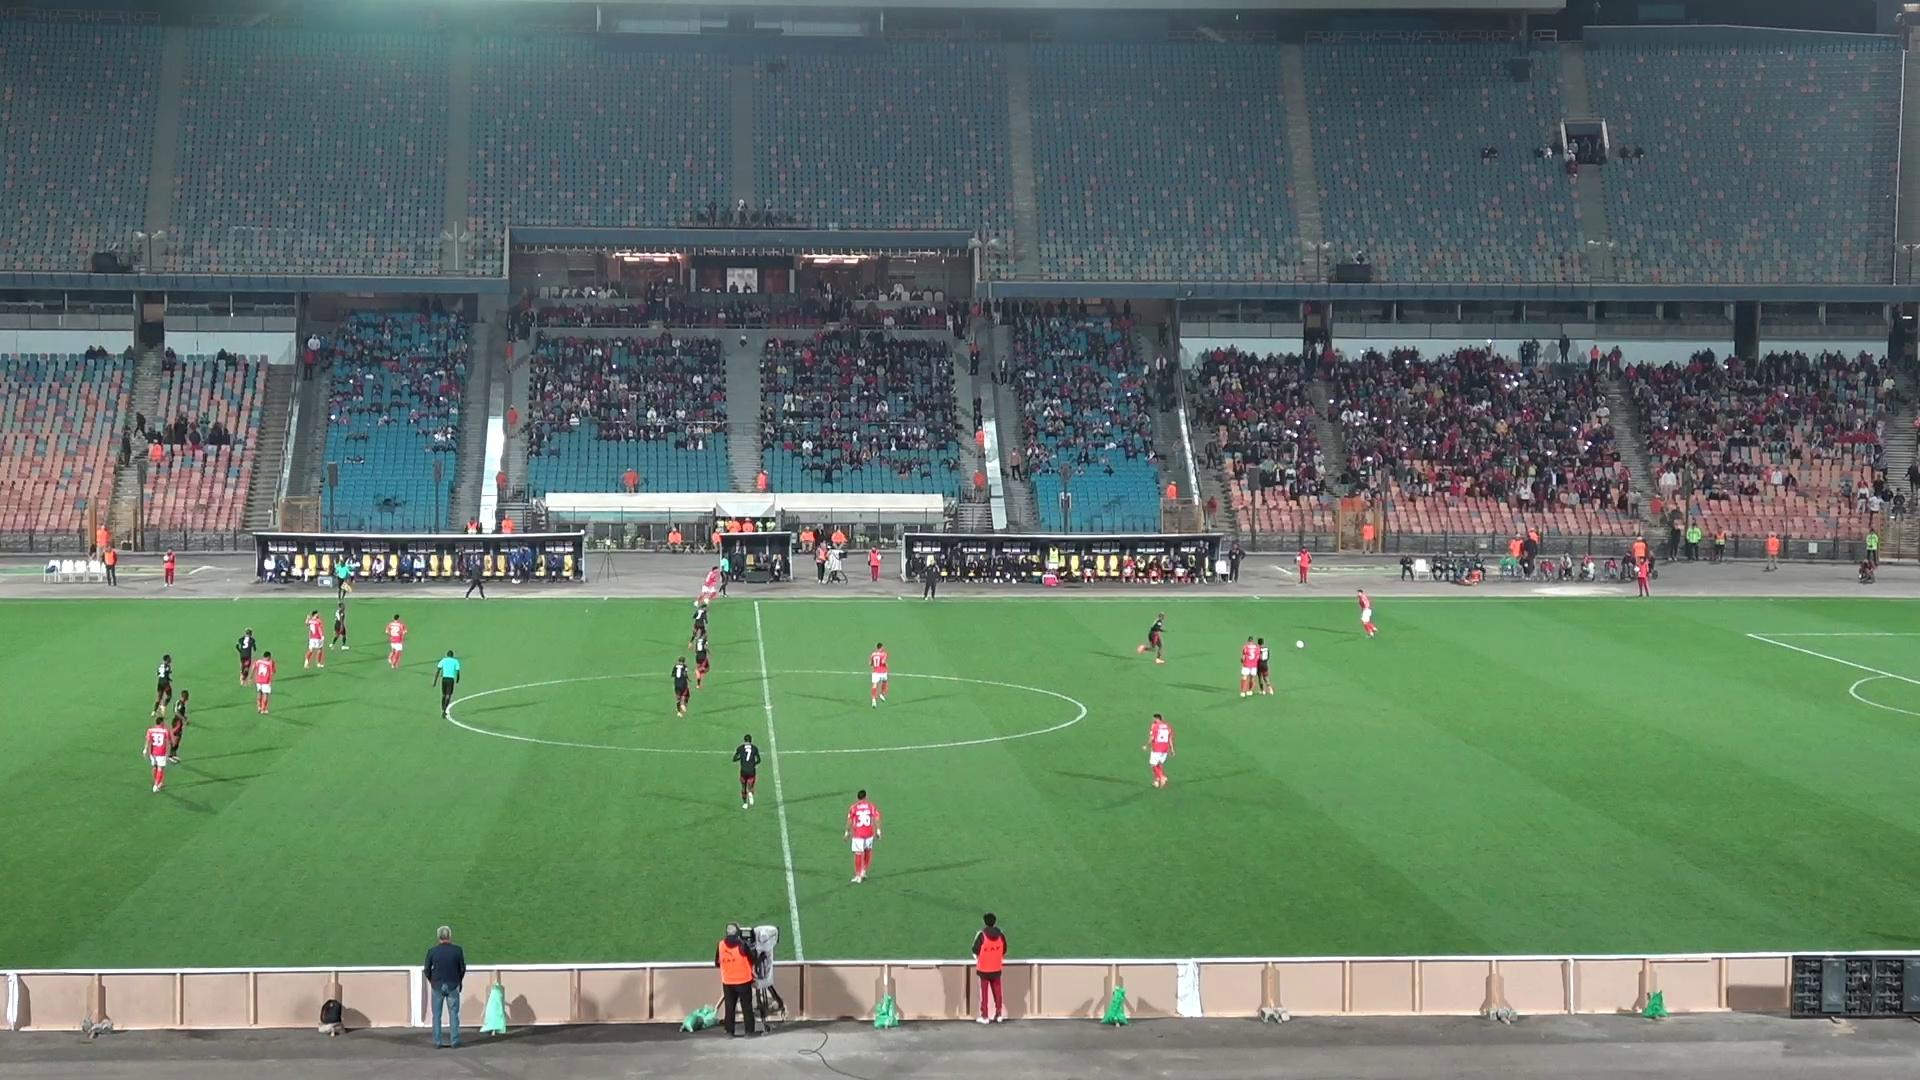Ball: (1292, 636, 1308, 653)
Refree: (433, 650, 462, 717), (332, 554, 353, 604), (719, 553, 736, 593)
Team1: (844, 790, 882, 884), (142, 717, 185, 793), (1142, 713, 1175, 787), (302, 611, 342, 667), (241, 651, 277, 713), (868, 644, 891, 705), (695, 566, 731, 605), (1240, 636, 1261, 698), (385, 615, 407, 669), (1356, 589, 1378, 637)
Team2: (731, 733, 764, 810), (150, 654, 190, 713), (158, 688, 189, 762), (669, 655, 703, 717), (684, 622, 709, 687), (1135, 612, 1164, 665), (684, 604, 716, 647), (233, 629, 258, 682), (328, 597, 348, 649), (1255, 638, 1273, 694)
